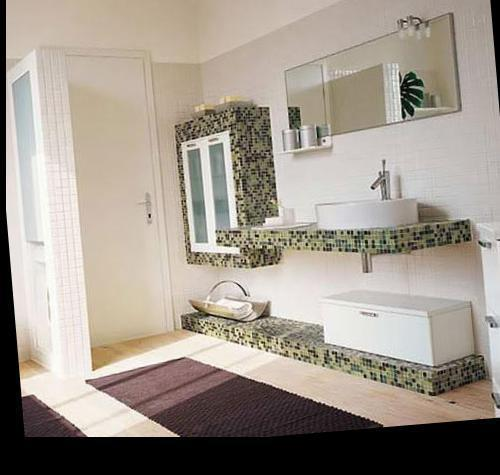Lavamanos: (313, 159, 422, 235)
